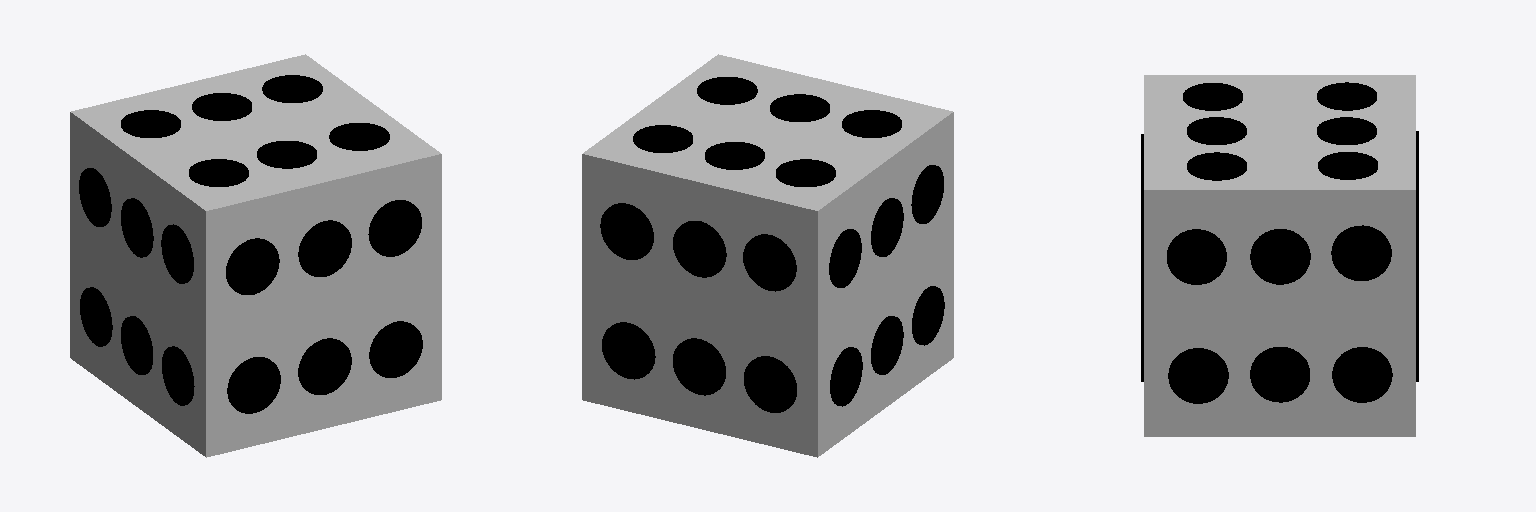
The model's file is dice_6.obj.
3 views of the same model, side by side, from view 1: azimuth 30°, elevation 25°; view 2: azimuth 150°, elevation 25°; view 3: azimuth 270°, elevation 25° (orthographic).
Visible parts, largest first — view 1: Shape_IndexedFaceSet.009, Shape_IndexedFaceSet.035, Shape_IndexedFaceSet.030, Shape_IndexedFaceSet.018, Shape_IndexedFaceSet.016, Shape_IndexedFaceSet.002, Shape_IndexedFaceSet.012, Shape_IndexedFaceSet.036, Shape_IndexedFaceSet.013, Shape_IndexedFaceSet, Shape_IndexedFaceSet.034, Shape_IndexedFaceSet.022 (+7 smaller); view 2: Shape_IndexedFaceSet.009, Shape_IndexedFaceSet.005, Shape_IndexedFaceSet.004, Shape_IndexedFaceSet.008, Shape_IndexedFaceSet.003, Shape_IndexedFaceSet.006, Shape_IndexedFaceSet.007, Shape_IndexedFaceSet.036, Shape_IndexedFaceSet.022, Shape_IndexedFaceSet.013, Shape_IndexedFaceSet, Shape_IndexedFaceSet.034 (+7 smaller); view 3: Shape_IndexedFaceSet.009, Shape_IndexedFaceSet.029, Shape_IndexedFaceSet.011, Shape_IndexedFaceSet.026, Shape_IndexedFaceSet.001, Shape_IndexedFaceSet.031, Shape_IndexedFaceSet.015, Shape_IndexedFaceSet.019, Shape_IndexedFaceSet.020, Shape_IndexedFaceSet.010, Shape_IndexedFaceSet.027, Shape_IndexedFaceSet.028 (+1 smaller).
Boxes of the visible parts, x1,y1,x2,y2 form: Shape_IndexedFaceSet.009: [70, 54, 441, 457]; Shape_IndexedFaceSet.035: [227, 357, 280, 413]; Shape_IndexedFaceSet.030: [368, 200, 421, 256]; Shape_IndexedFaceSet.018: [369, 321, 422, 377]; Shape_IndexedFaceSet.016: [298, 338, 351, 394]; Shape_IndexedFaceSet.002: [226, 238, 279, 294]; Shape_IndexedFaceSet.012: [298, 220, 351, 276]; Shape_IndexedFaceSet.036: [80, 287, 112, 346]; Shape_IndexedFaceSet.013: [121, 198, 153, 257]; Shape_IndexedFaceSet: [79, 168, 111, 226]; Shape_IndexedFaceSet.034: [161, 224, 193, 283]; Shape_IndexedFaceSet.022: [162, 346, 194, 405]; Shape_IndexedFaceSet.009: [582, 54, 953, 457]; Shape_IndexedFaceSet.005: [600, 203, 653, 259]; Shape_IndexedFaceSet.004: [602, 322, 655, 379]; Shape_IndexedFaceSet.008: [673, 221, 726, 277]; Shape_IndexedFaceSet.003: [743, 234, 796, 291]; Shape_IndexedFaceSet.006: [673, 338, 725, 395]; Shape_IndexedFaceSet.007: [744, 356, 796, 412]; Shape_IndexedFaceSet.036: [830, 347, 862, 406]; Shape_IndexedFaceSet.022: [912, 286, 944, 345]; Shape_IndexedFaceSet.013: [871, 198, 903, 256]; Shape_IndexedFaceSet: [829, 229, 861, 287]; Shape_IndexedFaceSet.034: [911, 165, 943, 223]; Shape_IndexedFaceSet.009: [1144, 75, 1415, 436]; Shape_IndexedFaceSet.029: [1168, 348, 1228, 403]; Shape_IndexedFaceSet.011: [1250, 229, 1310, 284]; Shape_IndexedFaceSet.026: [1332, 347, 1392, 402]; Shape_IndexedFaceSet.001: [1167, 229, 1226, 284]; Shape_IndexedFaceSet.031: [1331, 225, 1391, 280]; Shape_IndexedFaceSet.015: [1250, 347, 1309, 402]; Shape_IndexedFaceSet.019: [1187, 152, 1246, 180]; Shape_IndexedFaceSet.020: [1317, 82, 1376, 110]; Shape_IndexedFaceSet.010: [1187, 117, 1246, 144]; Shape_IndexedFaceSet.027: [1318, 152, 1377, 179]; Shape_IndexedFaceSet.028: [1183, 83, 1242, 110].
Bounding box in the file's own units: 0.2337 × 0.2337 × 0.2337.